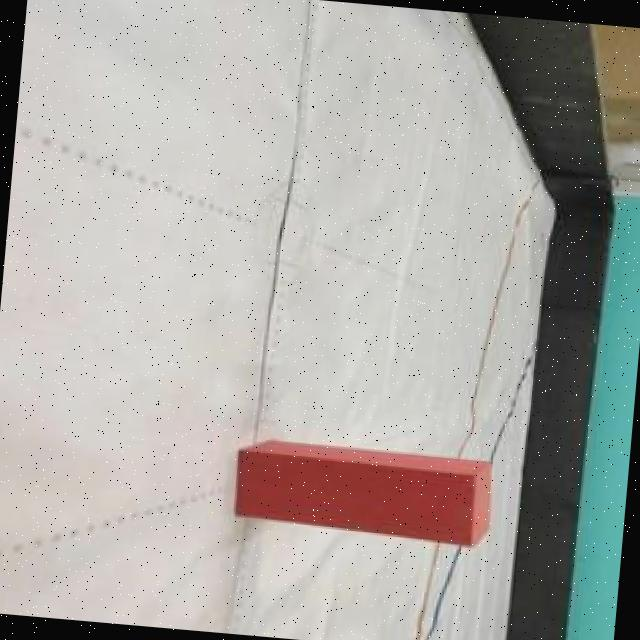redbox: (234, 434, 495, 548)
